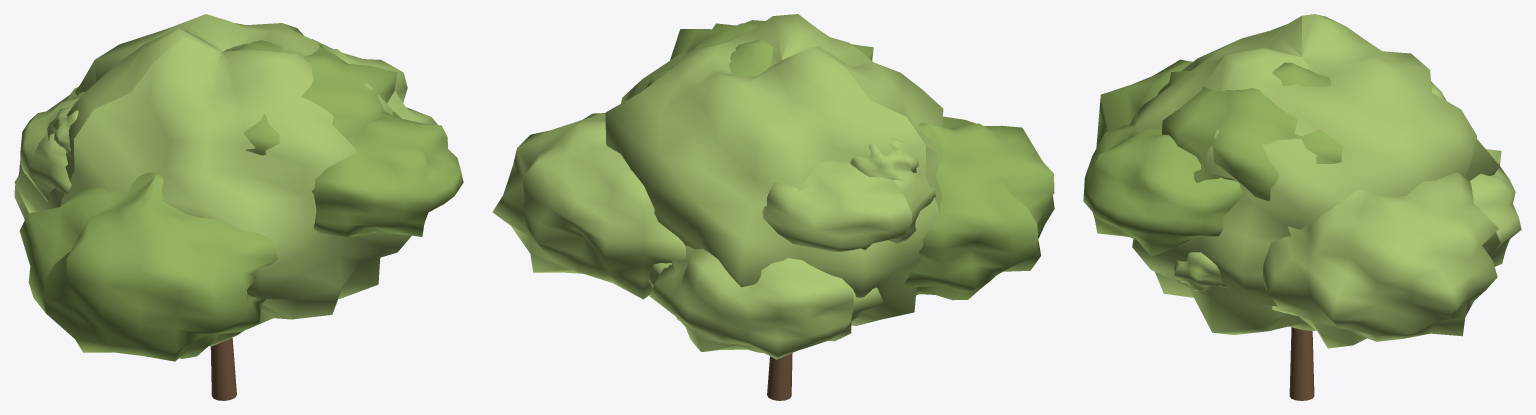
The model's file is acer-buergerianum-tavasz.glb.
3 views of the same model, side by side, from view 1: azimuth 30°, elevation 25°; view 2: azimuth 150°, elevation 25°; view 3: azimuth 270°, elevation 25° (orthographic). The views are drawn at different scales.
Visible parts, largest first — view 1: korona-1, korona-2, korona-6, korona-4, korona-7, korona-3, torzs, folt-3; view 2: korona-1, korona-3, korona-2, korona-5, korona-7, korona-4, folt-3, torzs; view 3: korona-1, korona-3, korona-6, korona-4, korona-5, korona-2, torzs, folt-1.
Boxes of the visible parts, bbox=[...] form: korona-1: bbox=[14, 14, 411, 346]; korona-2: bbox=[19, 172, 277, 361]; korona-6: bbox=[311, 111, 463, 236]; korona-4: bbox=[224, 40, 397, 155]; korona-7: bbox=[20, 87, 84, 201]; korona-3: bbox=[312, 39, 437, 124]; torzs: bbox=[210, 337, 236, 400]; folt-3: bbox=[47, 101, 78, 157]; korona-1: bbox=[605, 14, 943, 325]; korona-3: bbox=[492, 113, 685, 299]; korona-2: bbox=[902, 116, 1054, 300]; korona-5: bbox=[649, 245, 883, 359]; korona-7: bbox=[762, 161, 935, 251]; korona-4: bbox=[646, 20, 873, 87]; folt-3: bbox=[850, 138, 918, 181]; torzs: bbox=[767, 353, 792, 400]; korona-1: bbox=[1132, 14, 1499, 334]; korona-3: bbox=[1262, 172, 1500, 348]; korona-6: bbox=[1083, 125, 1243, 256]; korona-4: bbox=[1161, 62, 1342, 201]; korona-5: bbox=[1469, 149, 1521, 266]; korona-2: bbox=[1096, 59, 1192, 147]; torzs: bbox=[1289, 327, 1314, 400]; folt-1: bbox=[1174, 252, 1228, 291].
Size of the model in its own units: 8.81 by 6.8 by 7.42.
